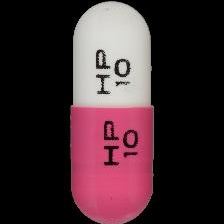63187-290: (0, 0, 224, 224)
